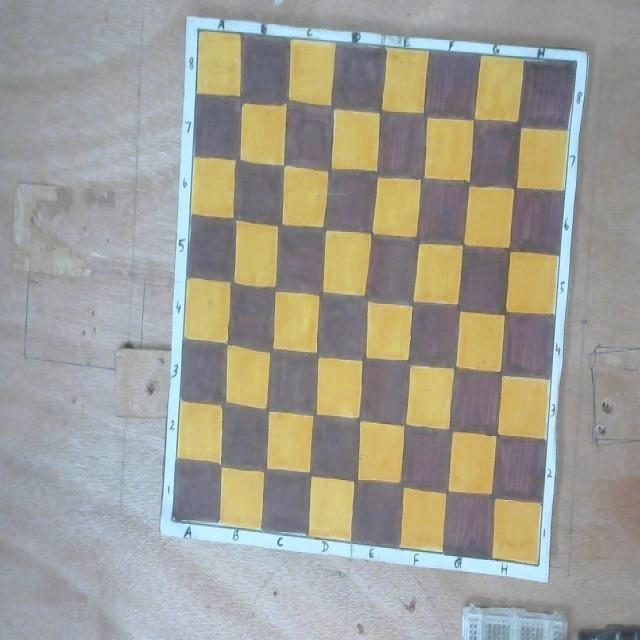chess-table-corners: (196, 26, 200, 34), (170, 516, 174, 523), (536, 562, 540, 568), (575, 58, 578, 64)
